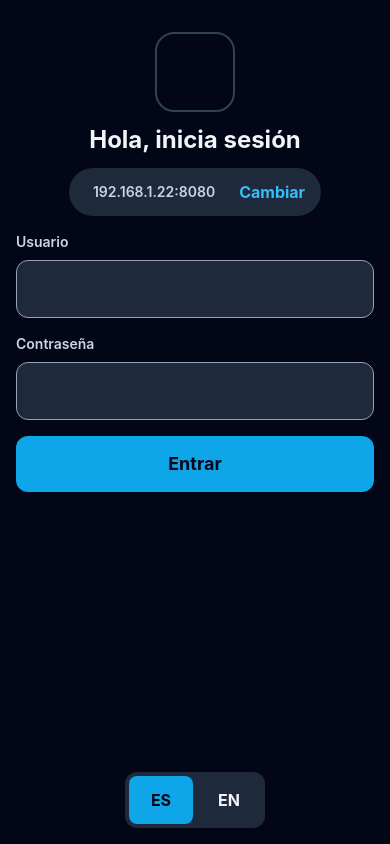
it: shows Spanish copy and rejects empty fields
The image size is (390, 844).
expect the heading "Hola, inicia sesión" is shown: met, box [89,124,301,156]
Click the button with test id "login-submit".
click(195, 464)  # box [16,436,374,492]
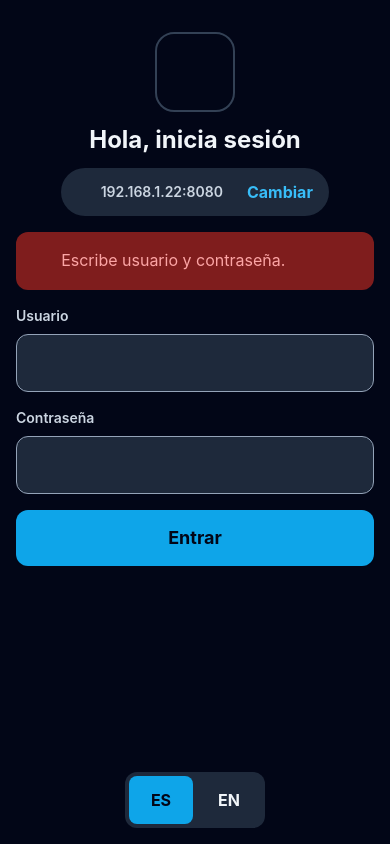
expect the text with test id "login-error" reads "Escribe usuario y contraseña.": met, box [61,250,285,270]
